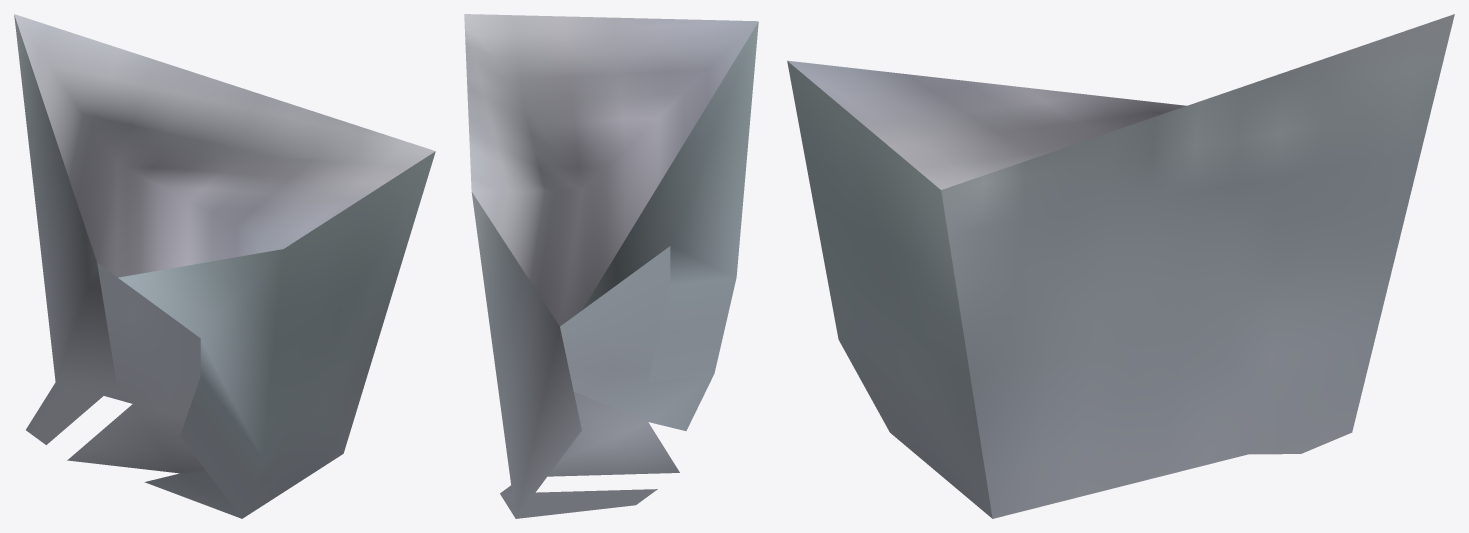
3 renders of one model, left to right at view 1: azimuth 30°, elevation 25°; view 2: azimuth 150°, elevation 25°; view 3: azimuth 270°, elevation 25°, orthographic. The views are drawn at different scales.
Visible parts, largest first — view 1: 30436272704361624752_0; view 2: 30436272704361624752_0; view 3: 30436272704361624752_0.
Part boxes in pixels (x1,y1,x2,y2): 30436272704361624752_0: (14,14,435,518); 30436272704361624752_0: (464,14,758,518); 30436272704361624752_0: (787,14,1454,518).
Size of the model in its own units: 1.23 by 1.39 by 2.01.
1 material, 1 textured.
